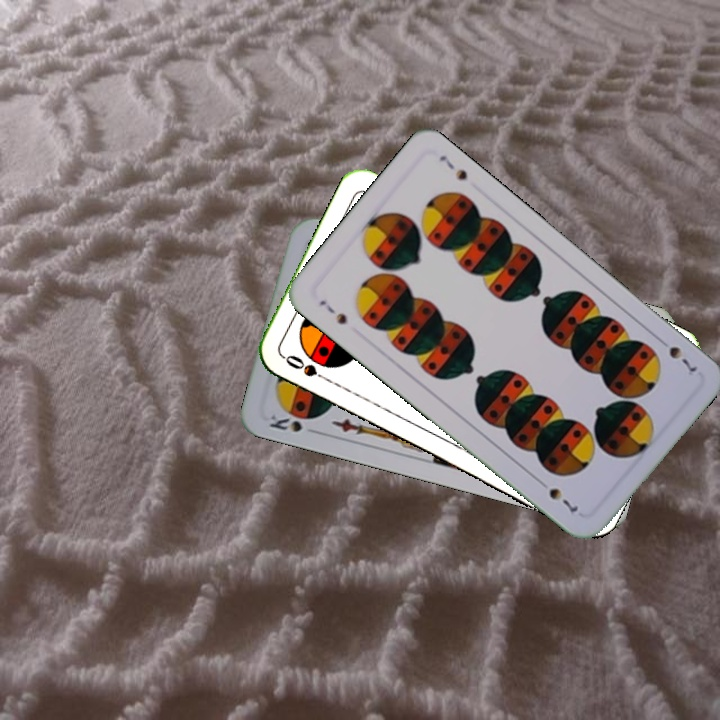S7: (653, 333, 700, 377), (314, 296, 350, 328)
SK: (265, 409, 322, 437)
SO: (279, 351, 334, 386)
